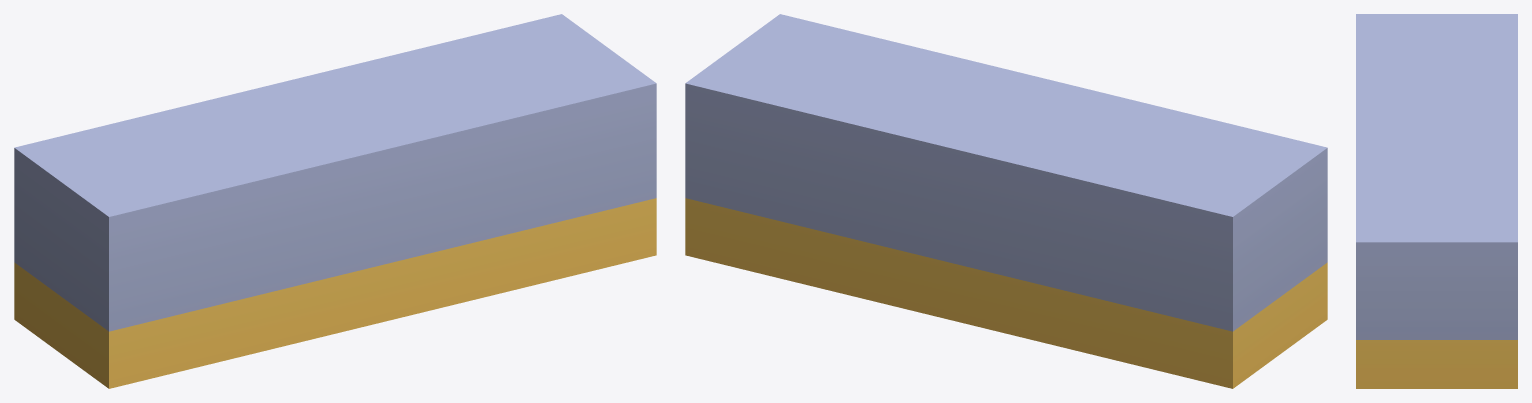
File: kenney-space-station-wall-door-center.glb
3 views of the same model, side by side, from view 1: azimuth 30°, elevation 25°; view 2: azimuth 150°, elevation 25°; view 3: azimuth 270°, elevation 25° (orthographic). The views are drawn at different scales.
Parts seen in each view (by area): view 1: wall-door-center; view 2: wall-door-center; view 3: wall-door-center.
Part boxes in pixels (x1,y1,x2,y2): wall-door-center: (14, 14, 656, 388); wall-door-center: (685, 14, 1327, 388); wall-door-center: (1356, 14, 1517, 388).
Bounding box in the file's own units: 1 × 0.3 × 0.3.
Materials: 1 (1 with a texture image).
